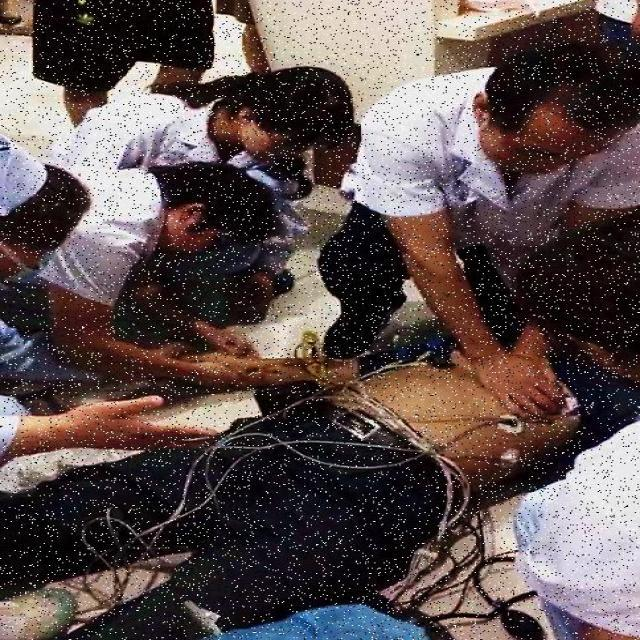fall: (51, 343, 611, 640)
